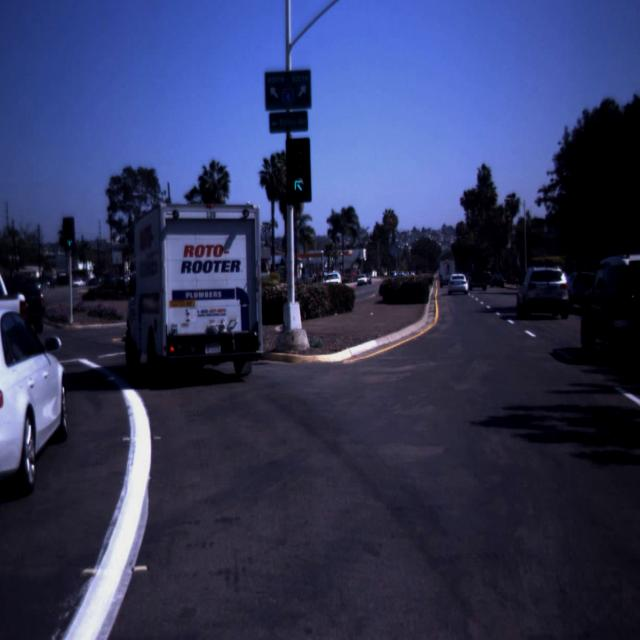yesil: (285, 138, 311, 202)
